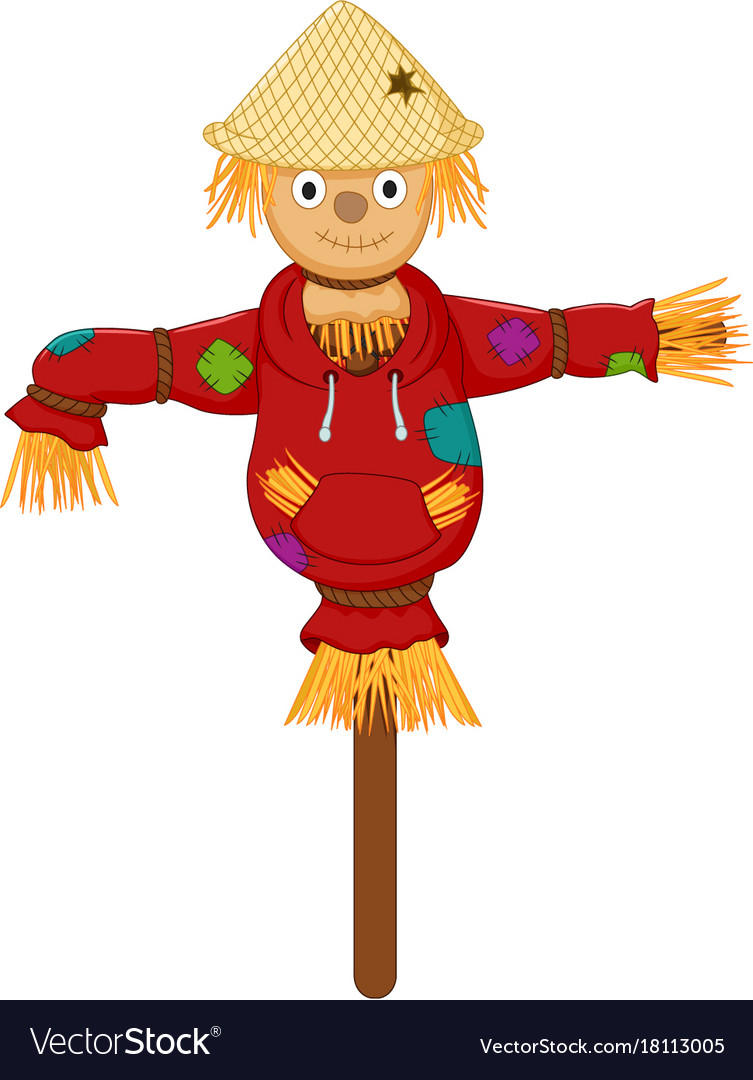person-like: (9, 1, 753, 756)
